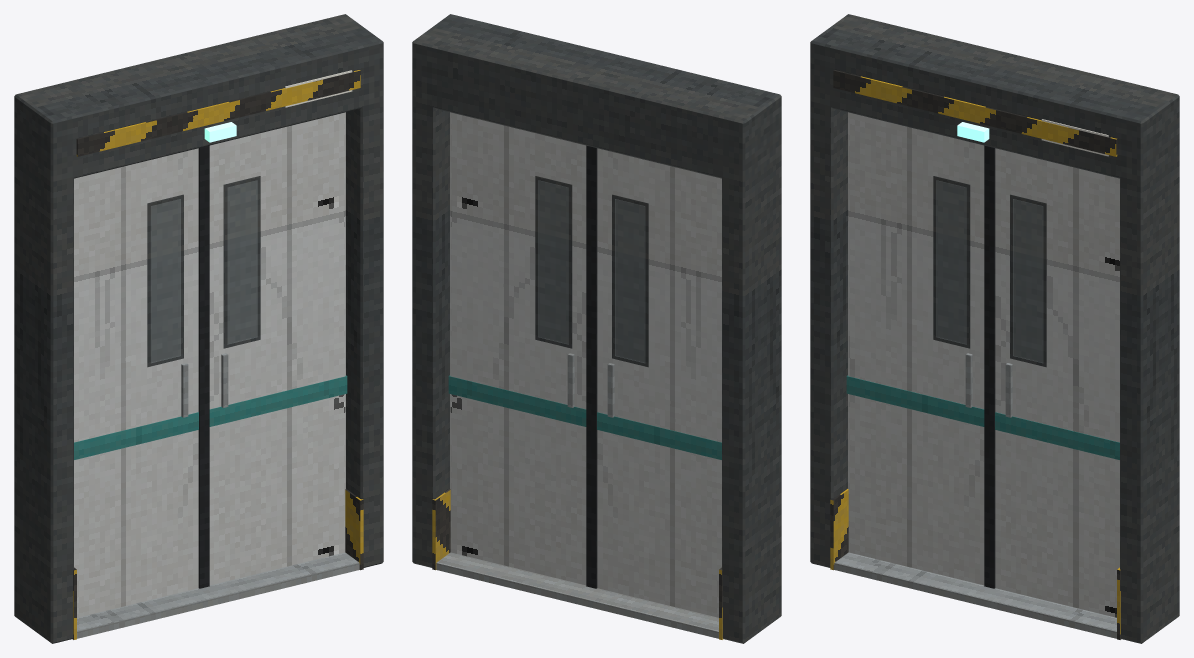
Rendered from lab_door.glb.
3 views of the same model, side by side, from view 1: azimuth 30°, elevation 25°; view 2: azimuth 150°, elevation 25°; view 3: azimuth 330°, elevation 25° (orthographic).
Visible parts, largest first — view 1: body, door_r, door_l; view 2: body, door_r, door_l; view 3: body, door_l, door_r.
Boxes of the visible parts, x1=… form: body: x1=14, y1=14, x2=383, y2=643; door_r: x1=204, y1=112, x2=347, y2=587; door_l: x1=74, y1=147, x2=204, y2=617; body: x1=412, y1=14, x2=781, y2=643; door_r: x1=448, y1=112, x2=591, y2=587; door_l: x1=591, y1=147, x2=721, y2=617; body: x1=810, y1=14, x2=1179, y2=643; door_l: x1=846, y1=112, x2=989, y2=587; door_r: x1=989, y1=147, x2=1119, y2=617.
Bounding box in the file's own units: 2 × 3 × 0.4565.
10 materials, 6 textured.
